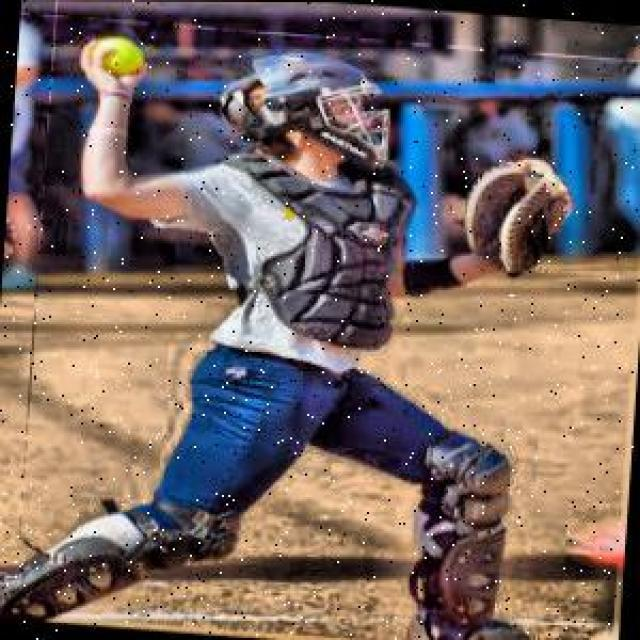tennis-ball: (94, 37, 148, 77)
